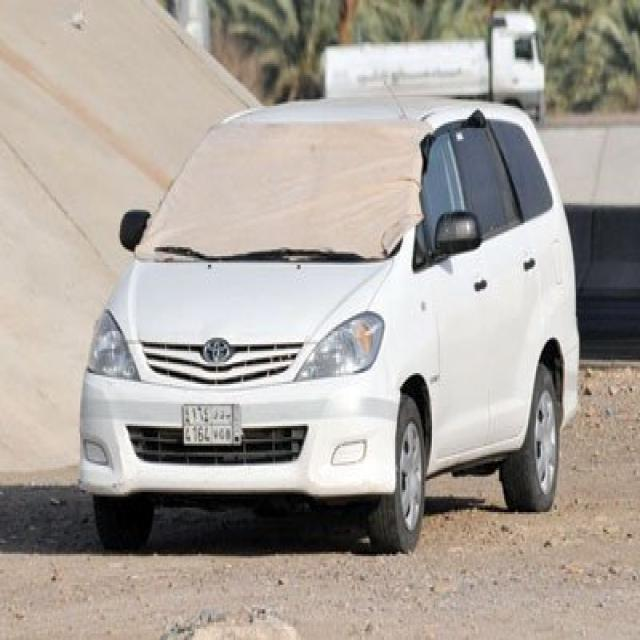license_plate: (181, 402, 243, 448)
